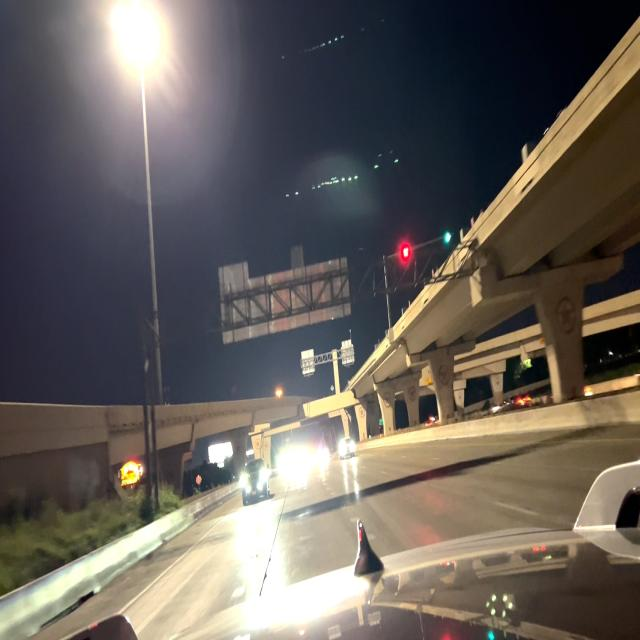back-of-sign: (207, 259, 350, 342), (219, 262, 249, 281), (292, 245, 304, 268)
